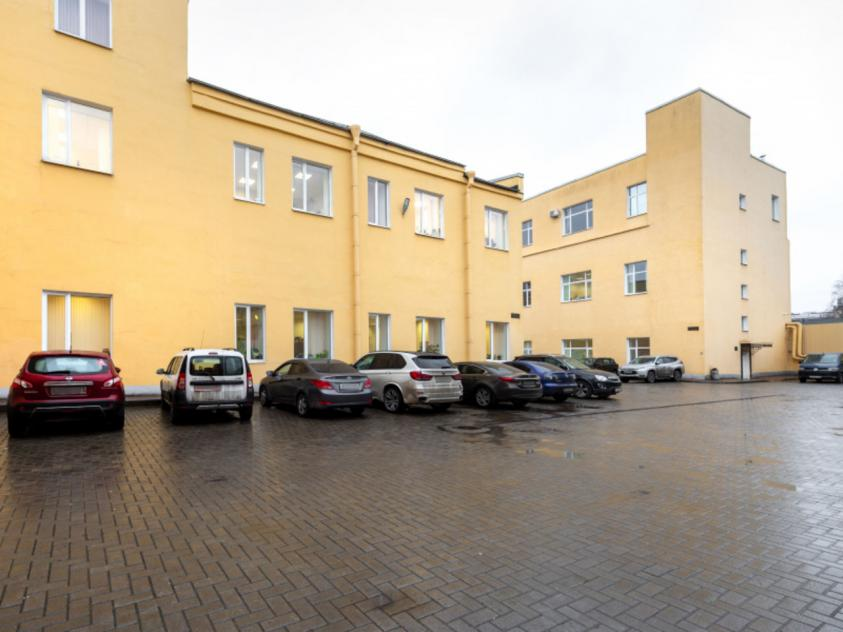Car: (7, 350, 126, 438), (156, 348, 255, 422), (354, 351, 463, 413), (258, 359, 373, 416), (515, 355, 623, 398), (456, 361, 542, 408), (507, 360, 577, 402), (619, 356, 684, 383), (798, 352, 843, 383), (577, 356, 619, 375)
